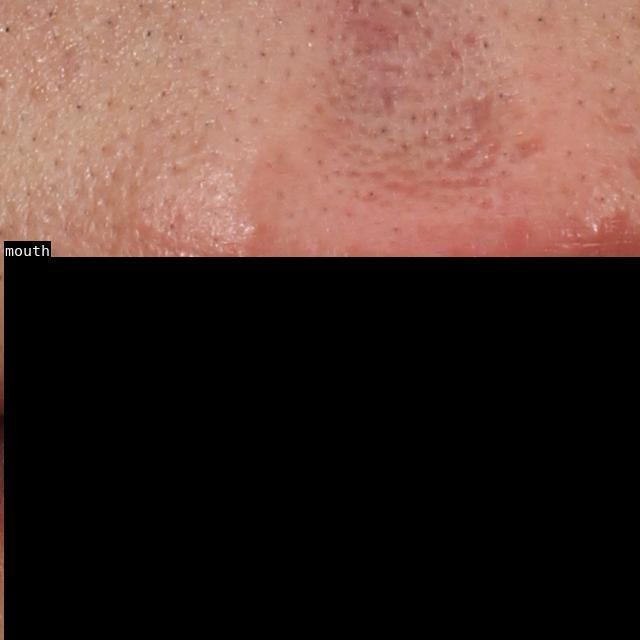atrophic_scar: (351, 3, 408, 56), (381, 86, 399, 115)
